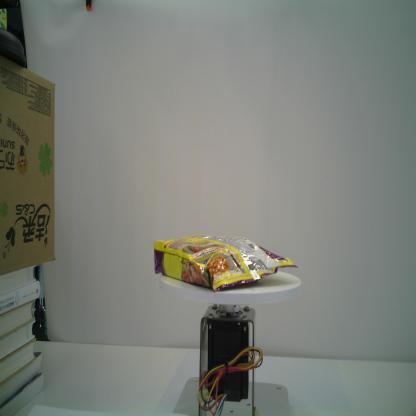Instant Noodles: (152, 232, 300, 294)
